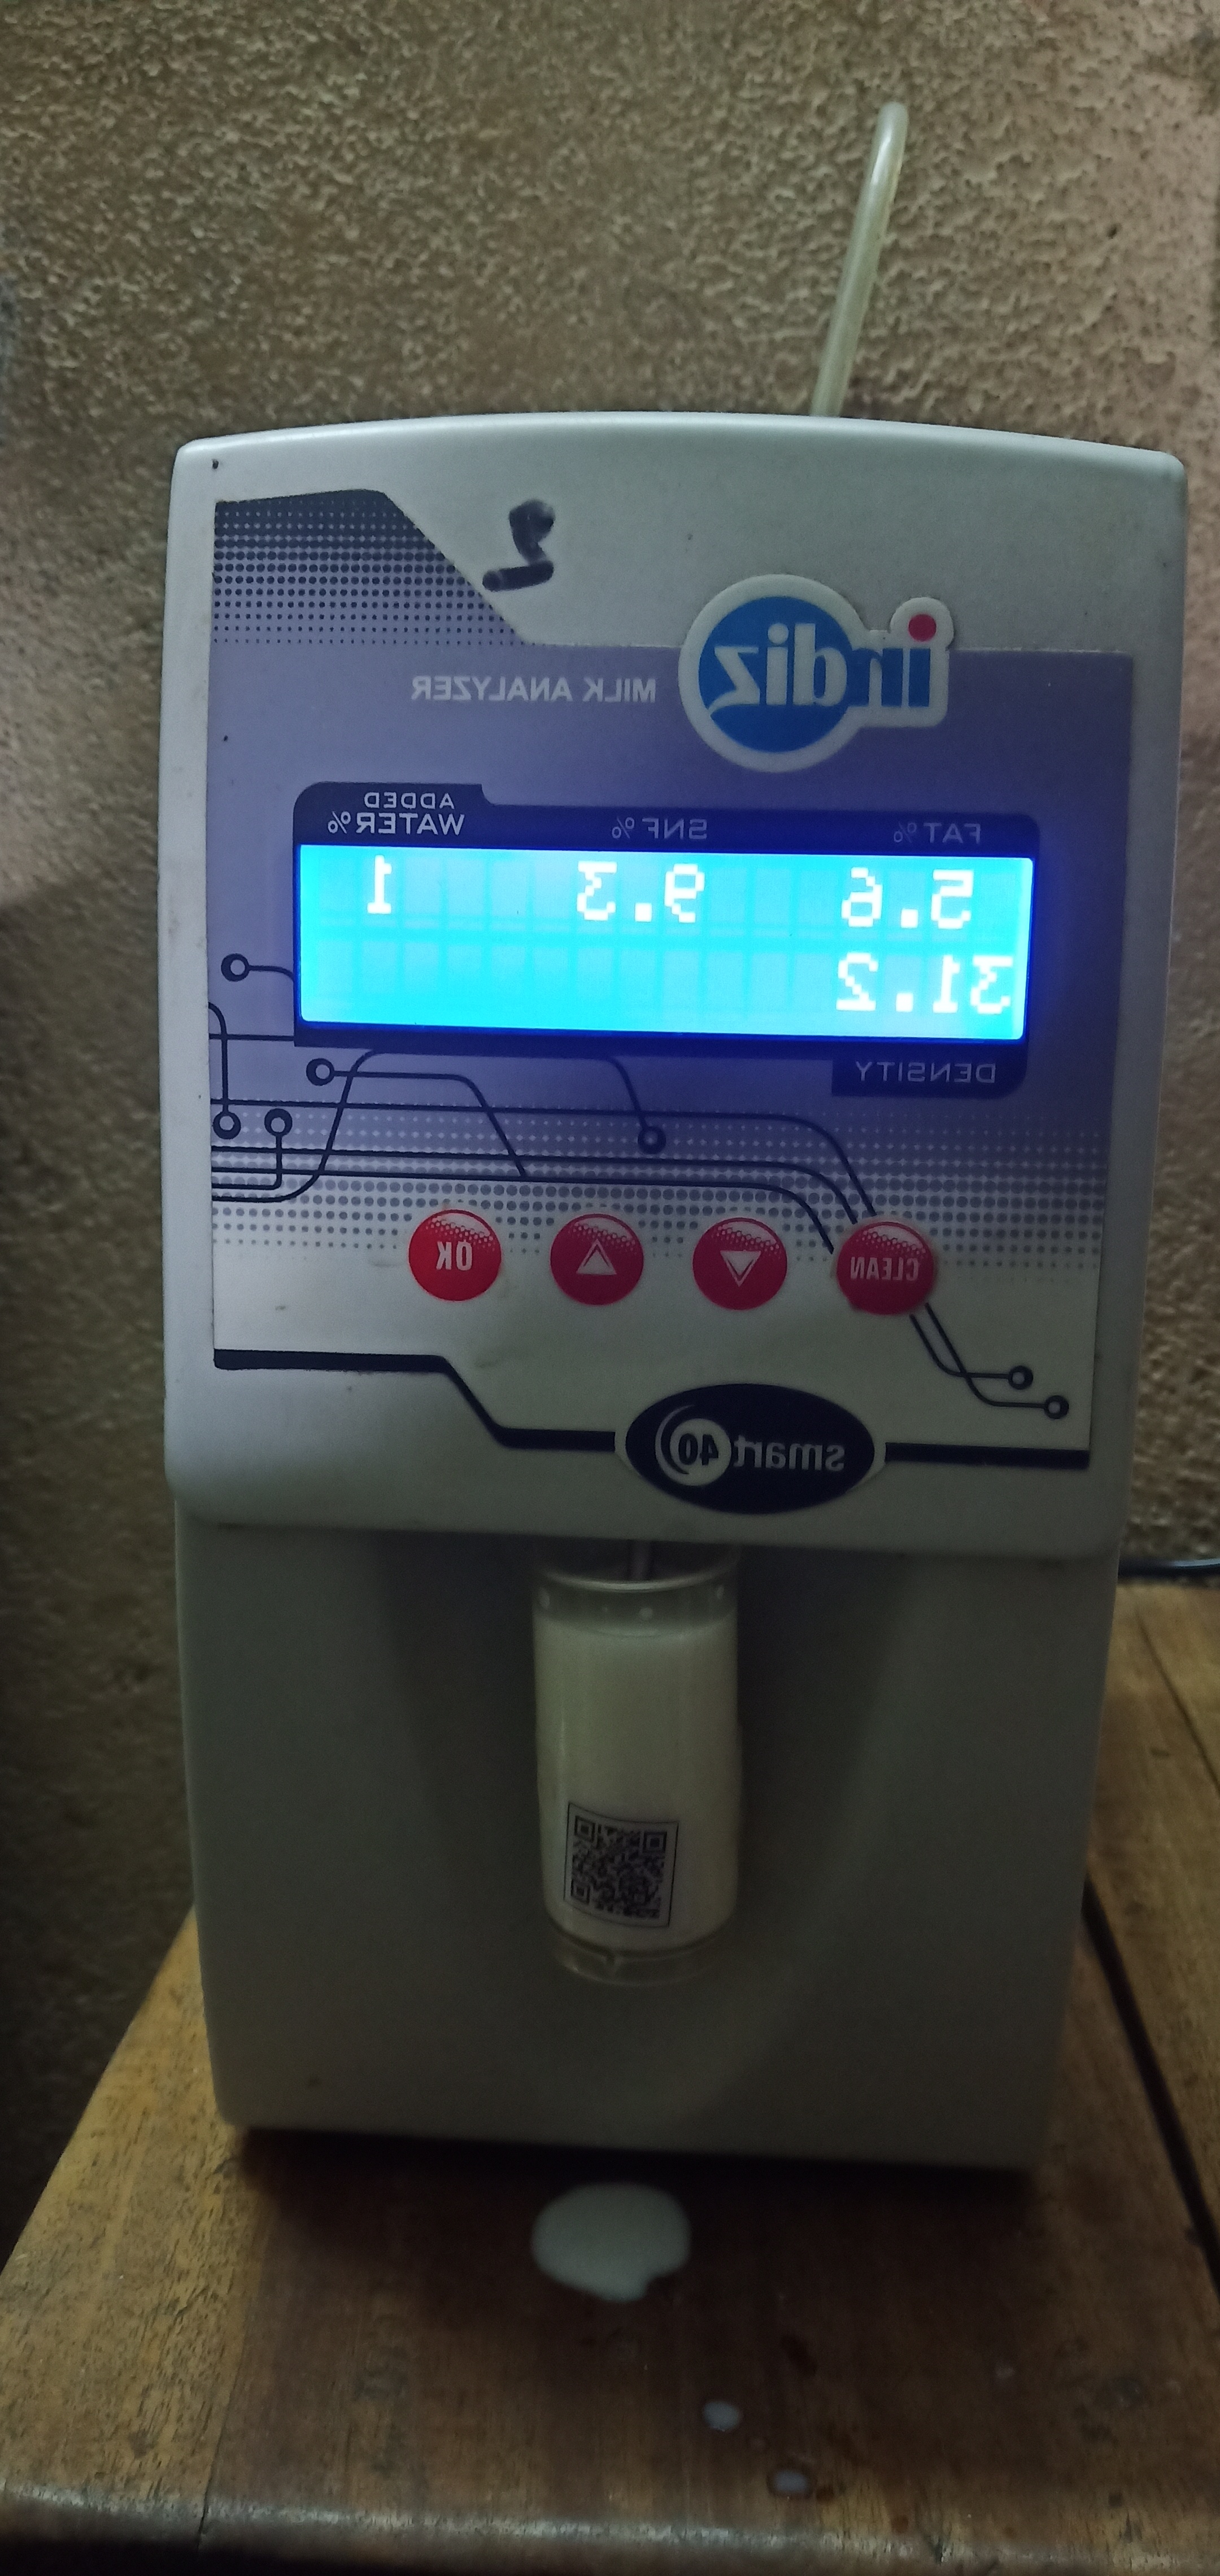lcd: (284, 812, 1051, 1102)
qr: (563, 1796, 693, 1945)
